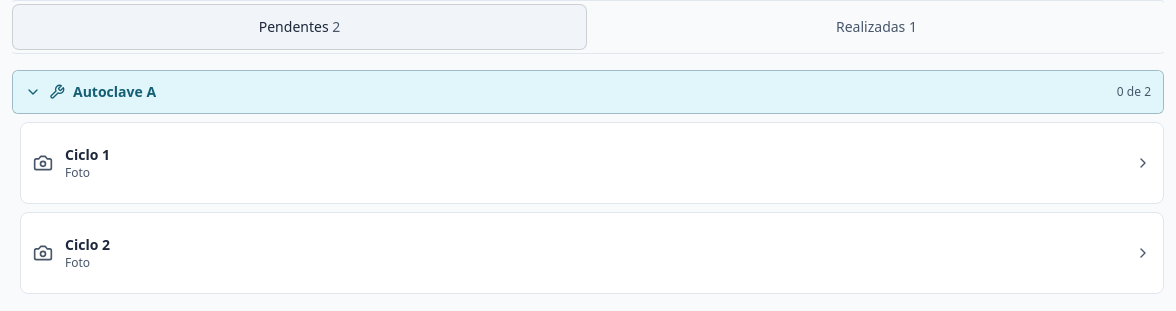
Test: ColetaList › trocar de segmento troca o conteúdo da lista
Click the button "Realizadas 1" at (876, 27), box x1=590 y1=5 x2=1163 y2=49
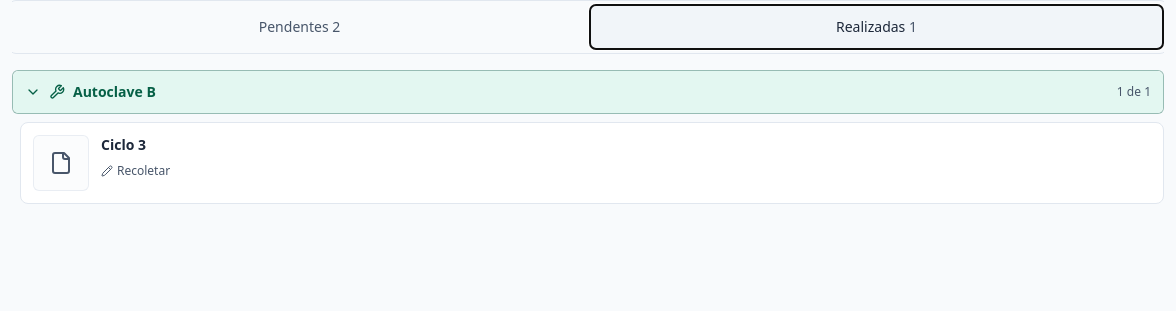
Expected: the text "Ciclo 3" is shown, x1=101 y1=135 x2=146 y2=155
Expected: the link "Ciclo 1" is gone
